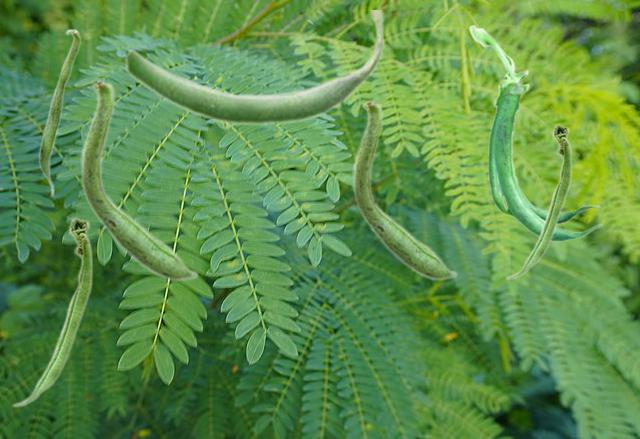french_bean: (124, 10, 384, 126), (468, 24, 601, 241), (80, 77, 198, 281), (352, 98, 457, 280), (11, 216, 92, 407), (505, 123, 571, 279), (38, 28, 80, 197)
